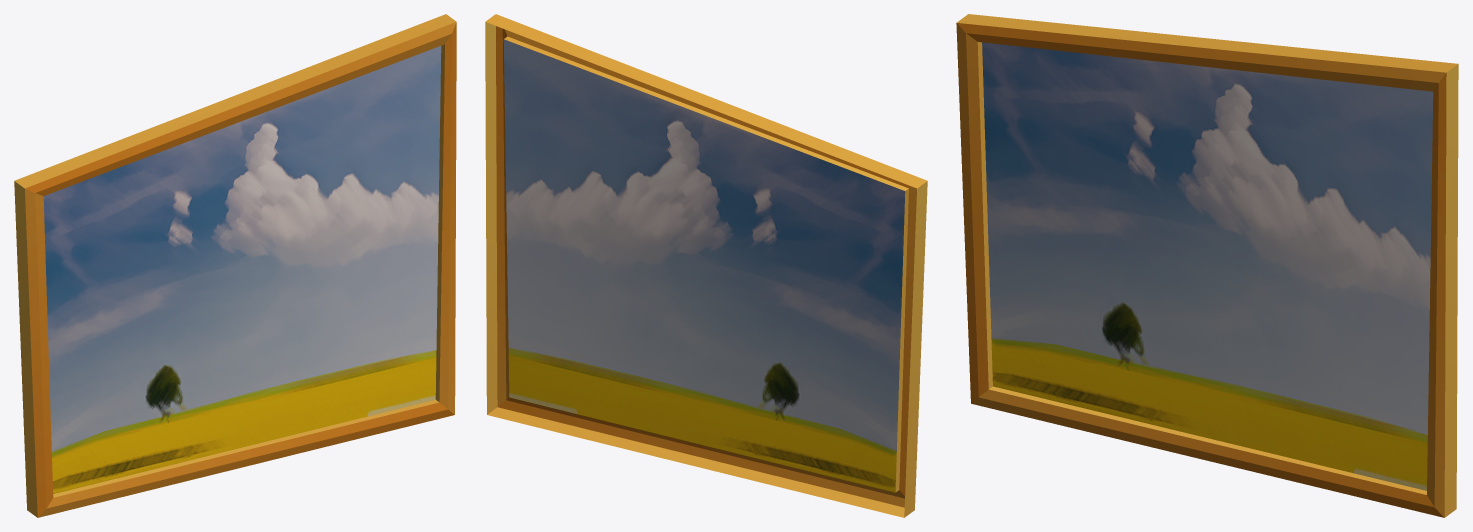
Rendered from painting_05.fbx.
3 views of the same model, side by side, from view 1: azimuth 30°, elevation 25°; view 2: azimuth 150°, elevation 25°; view 3: azimuth 330°, elevation 25° (orthographic). The views are drawn at different scales.
Visible parts, largest first — view 1: painting_05; view 2: painting_05; view 3: painting_05.
Boxes of the visible parts, <box> form: painting_05: <box>14,14,456,517</box>; painting_05: <box>485,14,927,517</box>; painting_05: <box>956,14,1458,517</box>.
Bounding box in the file's own units: 278 × 242 × 12.95.
